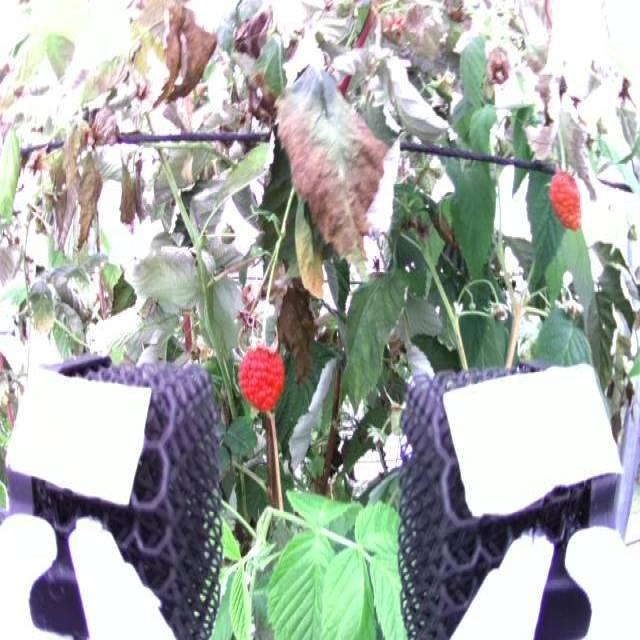Riped berries: (235, 336, 291, 411), (541, 163, 585, 228)
